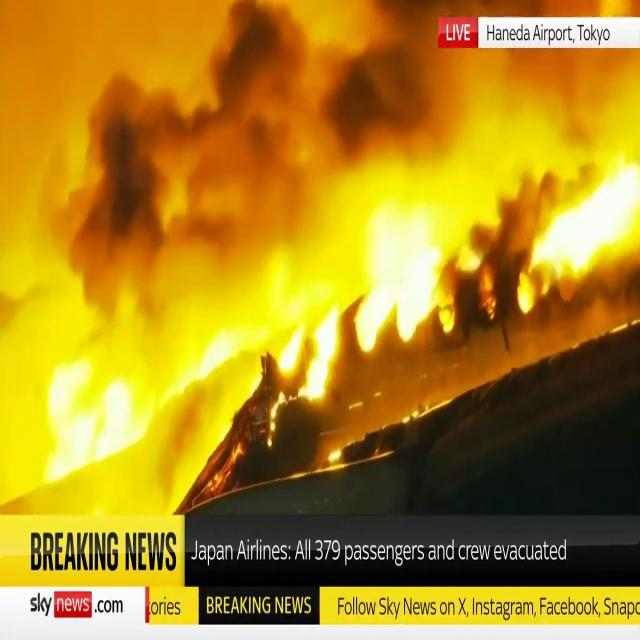Fire: (0, 16, 464, 516), (3, 275, 251, 506), (270, 155, 464, 408), (520, 123, 640, 289)
